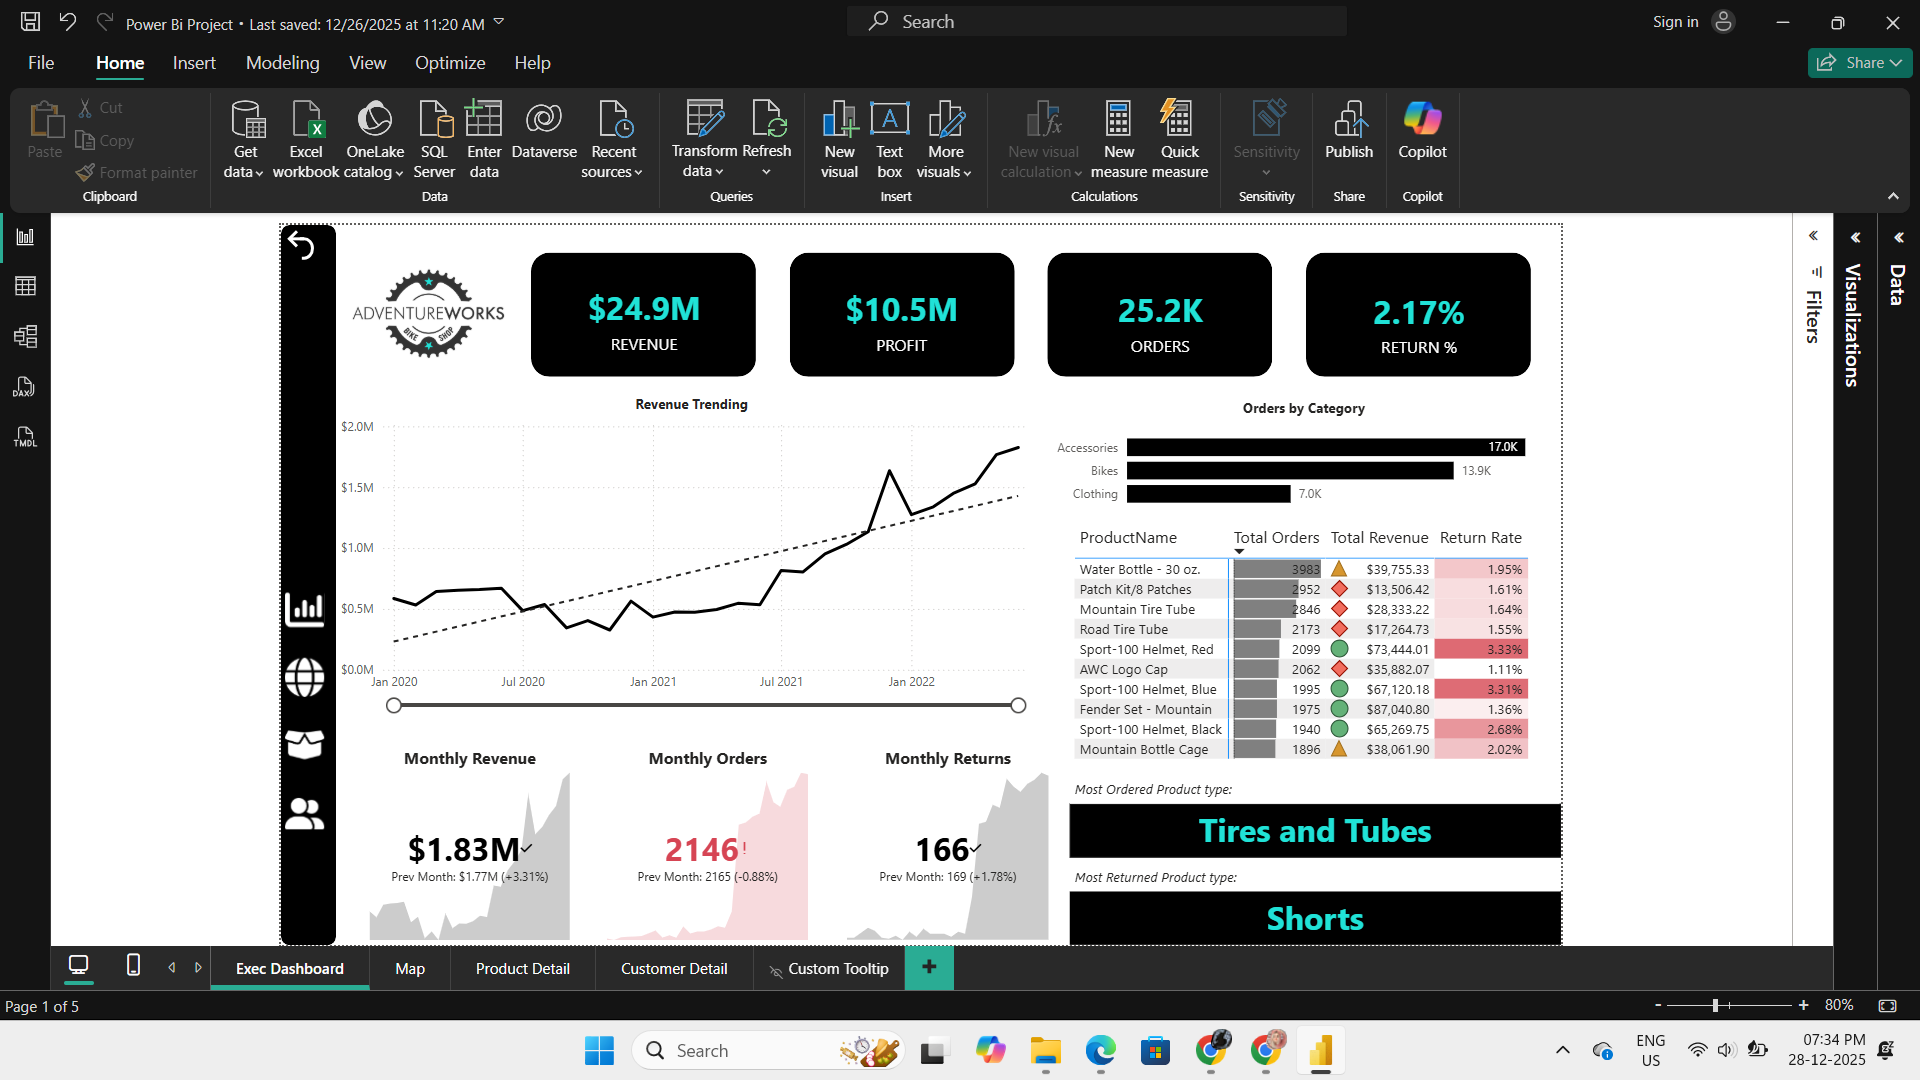

The dashboard page shown, as its layout file describes it:
{"tool":"powerbi","page":{"name":"Exec Dashboard","canvas":[1280,720],"ordinal":0},"visuals":[{"type":"shape","box":[1025,27.4,225.2,124.4],"z":0},{"type":"shape","box":[250,27.4,225.2,124.4],"z":1000},{"type":"shape","box":[508.4,27.4,225.2,124.4],"z":2000},{"type":"shape","box":[766.7,27.4,225.2,124.4],"z":3000},{"type":"image","box":[54.7,6.2,185.3,165.4],"z":4000},{"type":"shape","box":[0,0,55,720.3],"z":5000},{"type":"card","fields":{"Values":["Measure Table.Total Revenue"]},"box":[272.4,16.2,181.6,155.5],"z":6000},{"type":"card","fields":{"Values":["Sales Data.Total Profit"]},"box":[529.9,17.4,181.6,155.5],"z":7000},{"type":"card","fields":{"Values":["Measure Table.Total Orders"]},"box":[788.7,18.7,181.6,155.5],"z":8000},{"type":"card","fields":{"Values":["Measure Table.Return Rate"]},"box":[1047.4,19.9,181.6,155.5],"z":9000},{"type":"lineChart","title":" Revenue Trending","fields":{"Category":["Calendar Lookup.Start of Month"],"Y":["Measure Table.Total Revenue"]},"box":[54.7,170.4,711.5,320.9],"z":10000},{"type":"clusteredBarChart","fields":{"Category":["Product Categories Lookup.CategoryName"],"Y":["Measure Table.Total Orders"]},"box":[766.3,174.2,513.8,119.4],"z":11000},{"type":"pivotTable","fields":{"Rows":["Product Lookup.ProductName"],"Values":["Measure Table.Total Orders","Measure Table.Total Revenue","Measure Table.Return Rate"]},"box":[788.7,293.6,491.4,256.3],"z":12000},{"type":"kpi","title":"Monthly Revenue","fields":{"Indicator":["Measure Table.Total Revenue"],"TrendLine":["Calendar Lookup.Start of Month"],"Goal":["Measure Table.Prev Month Revenue"]},"box":[83.3,521,210.2,199],"z":13000},{"type":"kpi","title":"Monthly Orders","fields":{"TrendLine":["Calendar Lookup.Start of Month"],"Indicator":["Measure Table.Total Orders"],"Goal":["Measure Table.Previous Month Orders"]},"box":[321.6,521,211,199],"z":14000},{"type":"kpi","title":"Monthly Returns","fields":{"TrendLine":["Calendar Lookup.Start of Month"],"Indicator":["Measure Table.Total Returns"],"Goal":["Measure Table.Prev Month Returns"]},"box":[560.7,521.3,211.3,198.7],"z":15000},{"type":"card","fields":{"Values":["Min(Product Subcategories Lookup.SubcategoryName)"]},"box":[789,579.1,491.3,53.5],"z":16000},{"type":"card","fields":{"Values":["Min(Product Subcategories Lookup.SubcategoryName)"]},"box":[788.7,666.8,491.4,53.5],"z":17000},{"type":"textbox","box":[789,550.3,489.9,28.8],"z":18000},{"type":"textbox","box":[789,638.1,489.9,28.8],"z":19000},{"type":"actionButton","box":[0,0,54.7,39.8],"z":20000},{"type":"actionButton","box":[0,360.7,54.7,47.3],"z":21000},{"type":"actionButton","box":[0,428.8,54.7,47.3],"z":22000},{"type":"actionButton","box":[0,496.8,54.7,47.3],"z":23000},{"type":"actionButton","box":[0,564.8,54.7,47.3],"z":24000}]}

Visuals, with their boxes on the page's 1280x720 design canvas (x1, y1, x2, y2). These are canvas units, not pixel positions in the 1920x1080 screenshot, which may show the page scaled, cropped or inside an application window:
shape: (left=1025, top=27, right=1250, bottom=152)
shape: (left=250, top=27, right=475, bottom=152)
shape: (left=508, top=27, right=734, bottom=152)
shape: (left=767, top=27, right=992, bottom=152)
image: (left=55, top=6, right=240, bottom=172)
shape: (left=0, top=0, right=55, bottom=720)
card - Measure Table.Total Revenue: (left=272, top=16, right=454, bottom=172)
card - Sales Data.Total Profit: (left=530, top=17, right=712, bottom=173)
card - Measure Table.Total Orders: (left=789, top=19, right=970, bottom=174)
card - Measure Table.Return Rate: (left=1047, top=20, right=1229, bottom=175)
" Revenue Trending" lineChart: (left=55, top=170, right=766, bottom=491)
clusteredBarChart - Product Categories Lookup.CategoryName x Measure Table.Total Orders: (left=766, top=174, right=1280, bottom=294)
pivotTable - Product Lookup.ProductName x Measure Table.Total Orders: (left=789, top=294, right=1280, bottom=550)
"Monthly Revenue" kpi: (left=83, top=521, right=294, bottom=720)
"Monthly Orders" kpi: (left=322, top=521, right=533, bottom=720)
"Monthly Returns" kpi: (left=561, top=521, right=772, bottom=720)
card - Min(Product Subcategories Lookup.SubcategoryName): (left=789, top=579, right=1280, bottom=633)
card - Min(Product Subcategories Lookup.SubcategoryName): (left=789, top=667, right=1280, bottom=720)
textbox: (left=789, top=550, right=1279, bottom=579)
textbox: (left=789, top=638, right=1279, bottom=667)
actionButton: (left=0, top=0, right=55, bottom=40)
actionButton: (left=0, top=361, right=55, bottom=408)
actionButton: (left=0, top=429, right=55, bottom=476)
actionButton: (left=0, top=497, right=55, bottom=544)
actionButton: (left=0, top=565, right=55, bottom=612)
